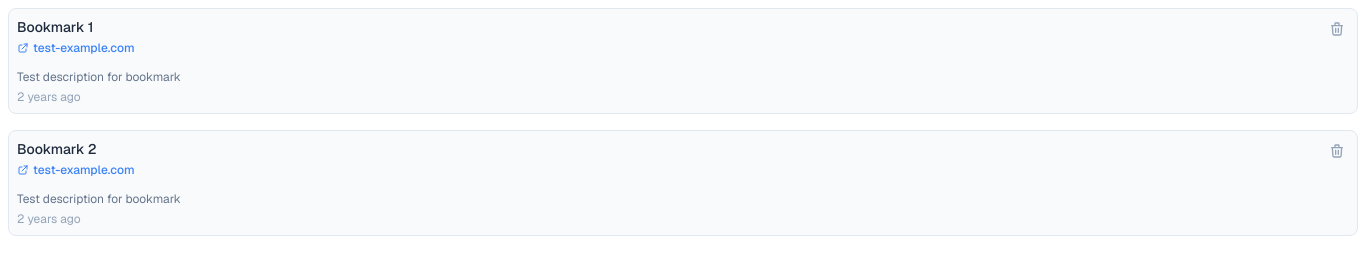
Test: BookmarkItem › RTK Query State Management Integration › should handle concurrent delete operations properly
What coordinates should you click on to do the following:
click the button named "Delete bookmark" in the row of "Bookmark 1"
I would click on:
 (1337, 29)
Its box is [1325,17,1349,41].
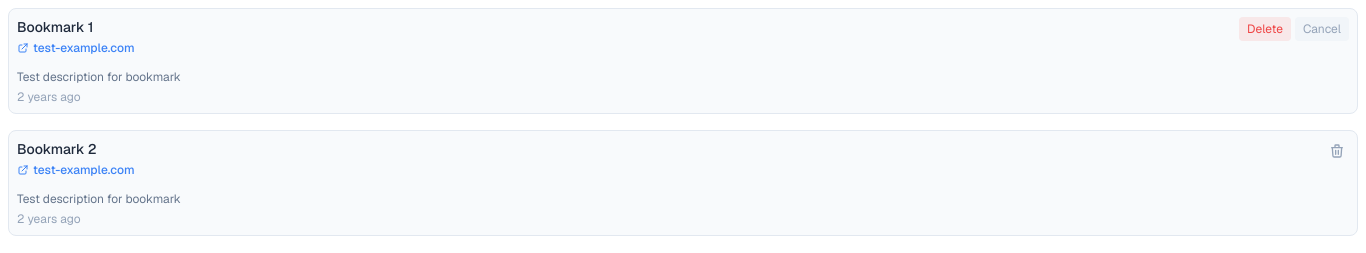
Expected: the number of buttons "Cancel" is 1, [1295,17,1349,41]
Result: the number of buttons "Delete" is 1 at [1239,17,1291,41]
